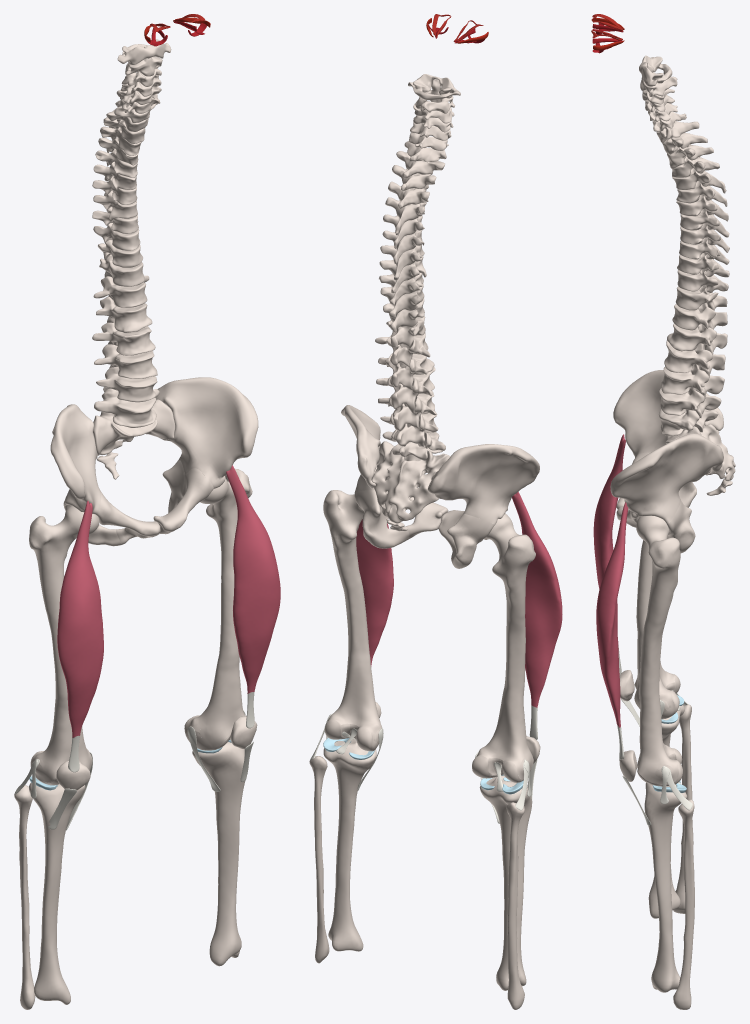
Rendered from musculoskeletal-meshopt.glb.
3 views of the same model, side by side, from view 1: azimuth 30°, elevation 25°; view 2: azimuth 150°, elevation 25°; view 3: azimuth 270°, elevation 25° (orthographic). The views are drawn at different scales.
Visible parts, largest first — view 1: VH_F_ilium_compact_bone_L, VH_F_rectus_femoris_L, VH_F_rectus_femoris_R, VH_F_femur_L, VH_F_femur_R, VH_F_tibia_L, VH_F_tibia_R, VH_F_ilium_compact_bone_R, VH_F_fibula_R, VH_F_sacrum, VH_F_pubis_compact_bone_L, VH_F_lumbar_vertebra_6 (+14 smaller); view 2: VH_F_femur_R, VH_F_femur_L, VH_F_ilium_compact_bone_R, VH_F_rectus_femoris_R, VH_F_tibia_L, VH_F_sacrum, VH_F_tibia_R, VH_F_rectus_femoris_L, VH_F_fibula_R, VH_F_ilium_compact_bone_L, VH_F_fibula_L, VH_F_ischium_compact_bone_L (+20 smaller); view 3: VH_F_femur_L, VH_F_ilium_compact_bone_L, VH_F_tibia_L, VH_F_ilium_compact_bone_R, VH_F_rectus_femoris_L, VH_F_fibula_L, VH_F_rectus_femoris_R, VH_F_femur_R, VH_F_fibula_R, VH_F_lumbar_vertebra_4, VH_F_lumbar_vertebra_3, VH_F_lumbar_vertebra_2 (+23 smaller).
Boxes of the visible parts, box(x1,y1,x2,y2) form: VH_F_ilium_compact_bone_L: box(156, 377, 258, 488); VH_F_rectus_femoris_L: box(226, 465, 280, 693); VH_F_rectus_femoris_R: box(57, 501, 103, 737); VH_F_femur_L: box(184, 469, 252, 749); VH_F_femur_R: box(29, 505, 99, 782); VH_F_tibia_L: box(192, 742, 245, 966); VH_F_tibia_R: box(29, 782, 85, 1004); VH_F_ilium_compact_bone_R: box(50, 404, 101, 514); VH_F_fibula_R: box(14, 785, 35, 1009); VH_F_sacrum: box(93, 399, 175, 455); VH_F_pubis_compact_bone_L: box(153, 468, 213, 534); VH_F_lumbar_vertebra_6: box(94, 388, 159, 427); VH_F_femur_R: box(477, 513, 535, 778); VH_F_femur_L: box(323, 490, 380, 748); VH_F_ilium_compact_bone_R: box(427, 444, 539, 524); VH_F_rectus_femoris_R: box(512, 492, 562, 707); VH_F_tibia_L: box(323, 739, 376, 951); VH_F_sacrum: box(371, 441, 450, 523); VH_F_tibia_R: box(479, 775, 532, 990); VH_F_rectus_femoris_L: box(356, 519, 393, 666); VH_F_fibula_R: box(506, 802, 524, 1009); VH_F_ilium_compact_bone_L: box(341, 405, 387, 491); VH_F_fibula_L: box(309, 756, 329, 963); VH_F_ischium_compact_bone_L: box(354, 490, 409, 548); VH_F_femur_L: box(636, 516, 680, 784); VH_F_ilium_compact_bone_L: box(610, 433, 723, 523); VH_F_tibia_L: box(644, 782, 687, 992); VH_F_ilium_compact_bone_R: box(613, 370, 723, 457); VH_F_rectus_femoris_L: box(596, 502, 628, 727); VH_F_fibula_L: box(673, 799, 694, 1009); VH_F_rectus_femoris_R: box(593, 434, 625, 642); VH_F_femur_R: box(634, 540, 674, 717); VH_F_fibula_R: box(673, 704, 692, 913); VH_F_lumbar_vertebra_4: box(661, 364, 724, 398); VH_F_lumbar_vertebra_3: box(664, 340, 725, 377); VH_F_lumbar_vertebra_2: box(667, 323, 727, 354).
Bounding box in the file's own units: 0.3598 × 1.51 × 0.2106.
